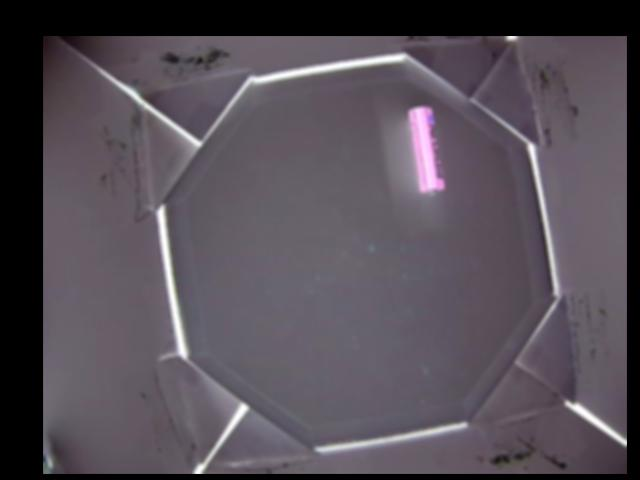Battery: (405, 105, 445, 193)
